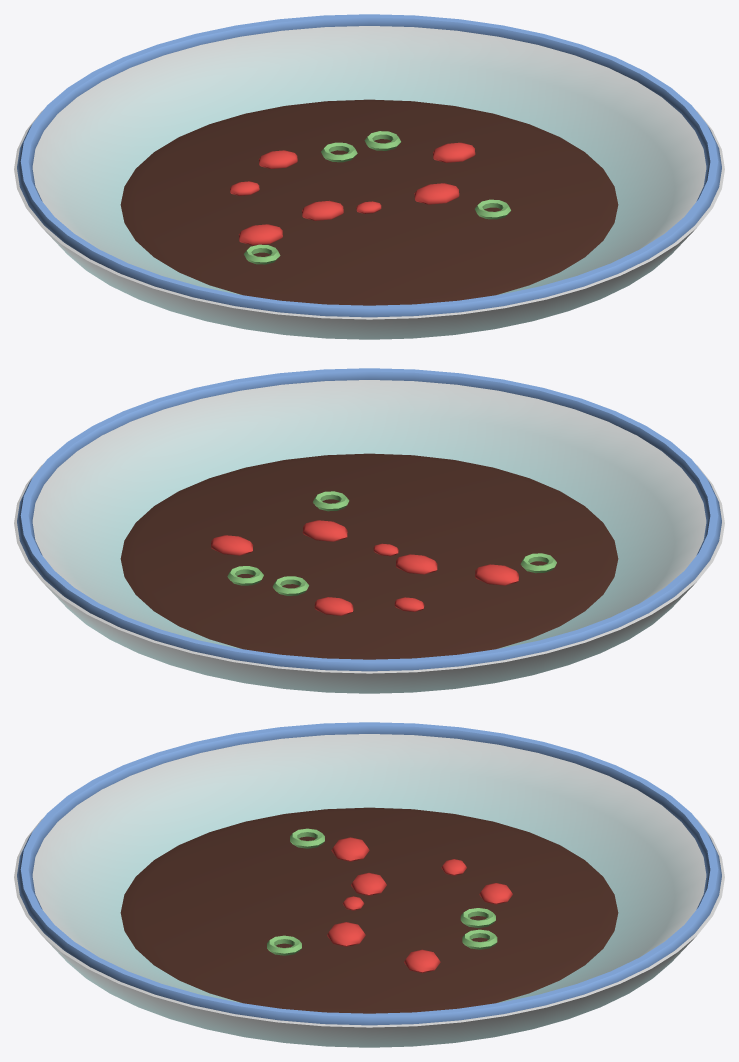
Rendered from ENV_Dimsum_Sauce.fbx.
3 renders of one model, top to bottom at view 1: azimuth 30°, elevation 25°; view 2: azimuth 150°, elevation 25°; view 3: azimuth 270°, elevation 25°, orthographic.
Visible parts, largest first — view 1: ENV_Dimsum_Sauce; view 2: ENV_Dimsum_Sauce; view 3: ENV_Dimsum_Sauce.
Boxes of the visible parts, x1,y1,x2,y2 form: ENV_Dimsum_Sauce: (14,14,724,339); ENV_Dimsum_Sauce: (14,368,724,693); ENV_Dimsum_Sauce: (14,722,724,1047).
Bounding box in the file's own units: 2 × 0.3241 × 2.
